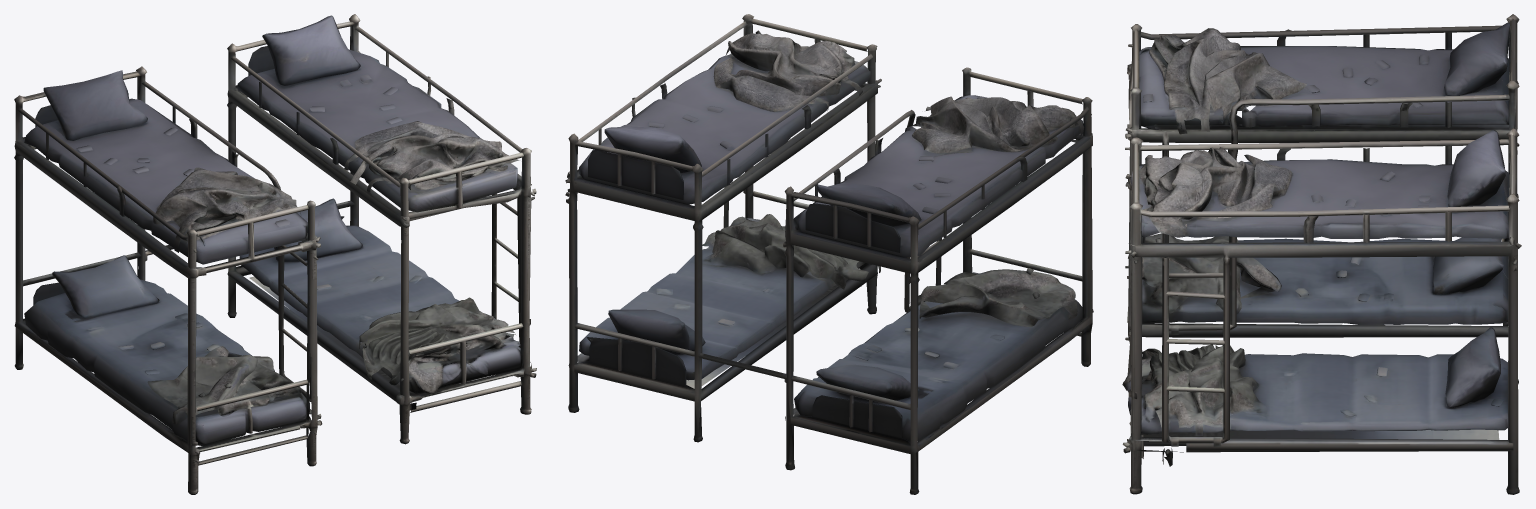
The model's file is Bunk Beds 2.glb.
3 views of the same model, side by side, from view 1: azimuth 30°, elevation 25°; view 2: azimuth 150°, elevation 25°; view 3: azimuth 270°, elevation 25° (orthographic). The views are drawn at different scales.
Visible parts, largest first — view 1: tripo_6fad03f3_b8c0_4ffc_bacb_70cd1e104466; view 2: tripo_6fad03f3_b8c0_4ffc_bacb_70cd1e104466; view 3: tripo_6fad03f3_b8c0_4ffc_bacb_70cd1e104466.
Part boxes in pixels (x1=…): tripo_6fad03f3_b8c0_4ffc_bacb_70cd1e104466: x1=14, y1=14, x2=536, y2=494; tripo_6fad03f3_b8c0_4ffc_bacb_70cd1e104466: x1=565, y1=14, x2=1093, y2=494; tripo_6fad03f3_b8c0_4ffc_bacb_70cd1e104466: x1=1122, y1=14, x2=1521, y2=494.
Size of the model in its own units: 0.9995 by 0.7808 by 0.897.
Materials: 1 (1 with a texture image).
